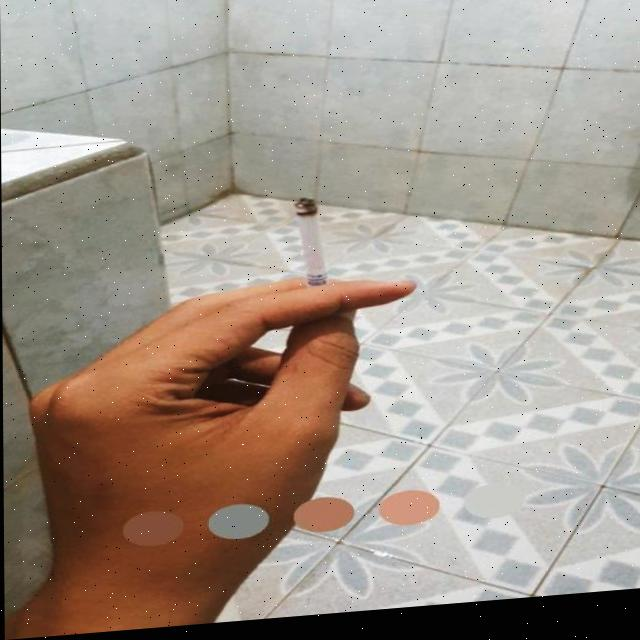cigarette: (295, 203, 324, 296)
